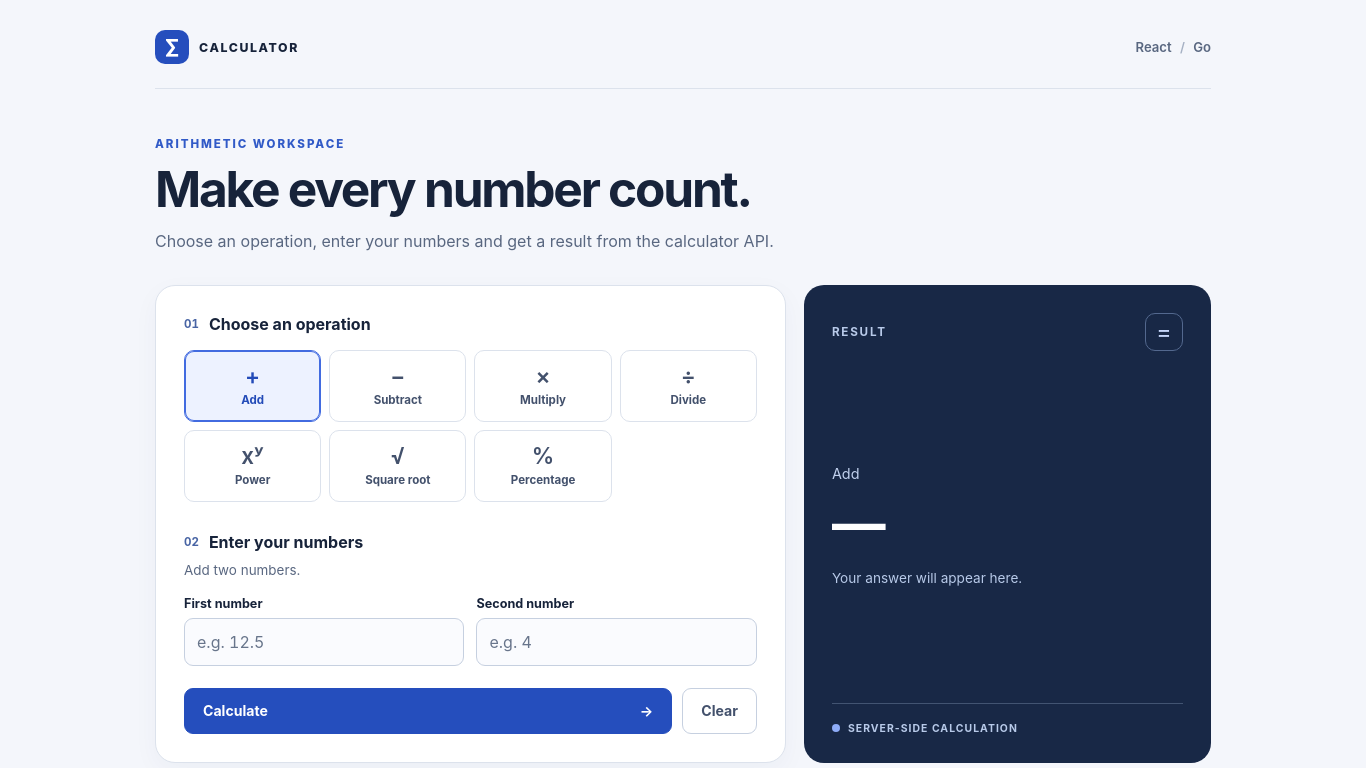
Test case: calculator interface › switches to a unary operation and clears previous feedback
The width and height of the screenshot is (1366, 768).
Click the button "√ Square root" at (398,466), box [329,430,466,502]
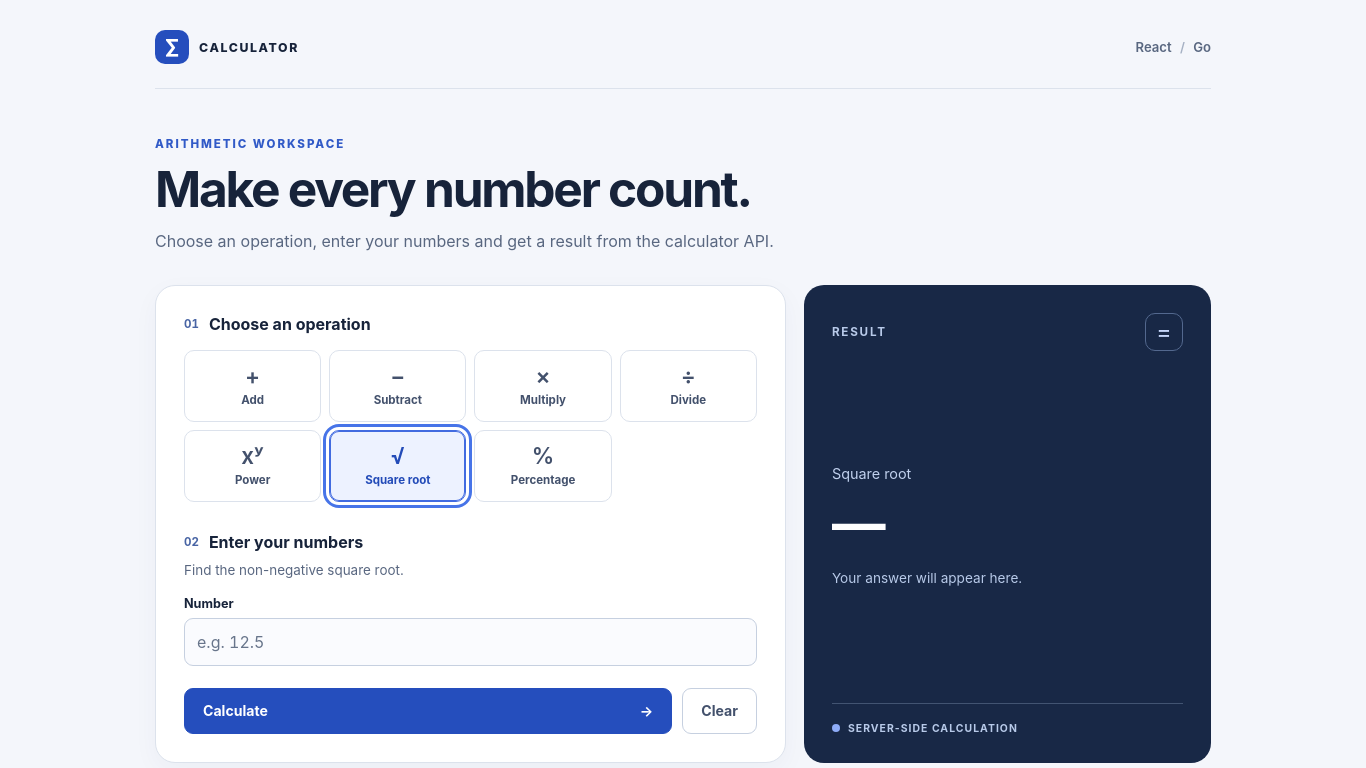
Expected: the label labelled "Second number" is gone
Type "81" into the field labelled "Number" at (470,642), box [184,618,757,666]
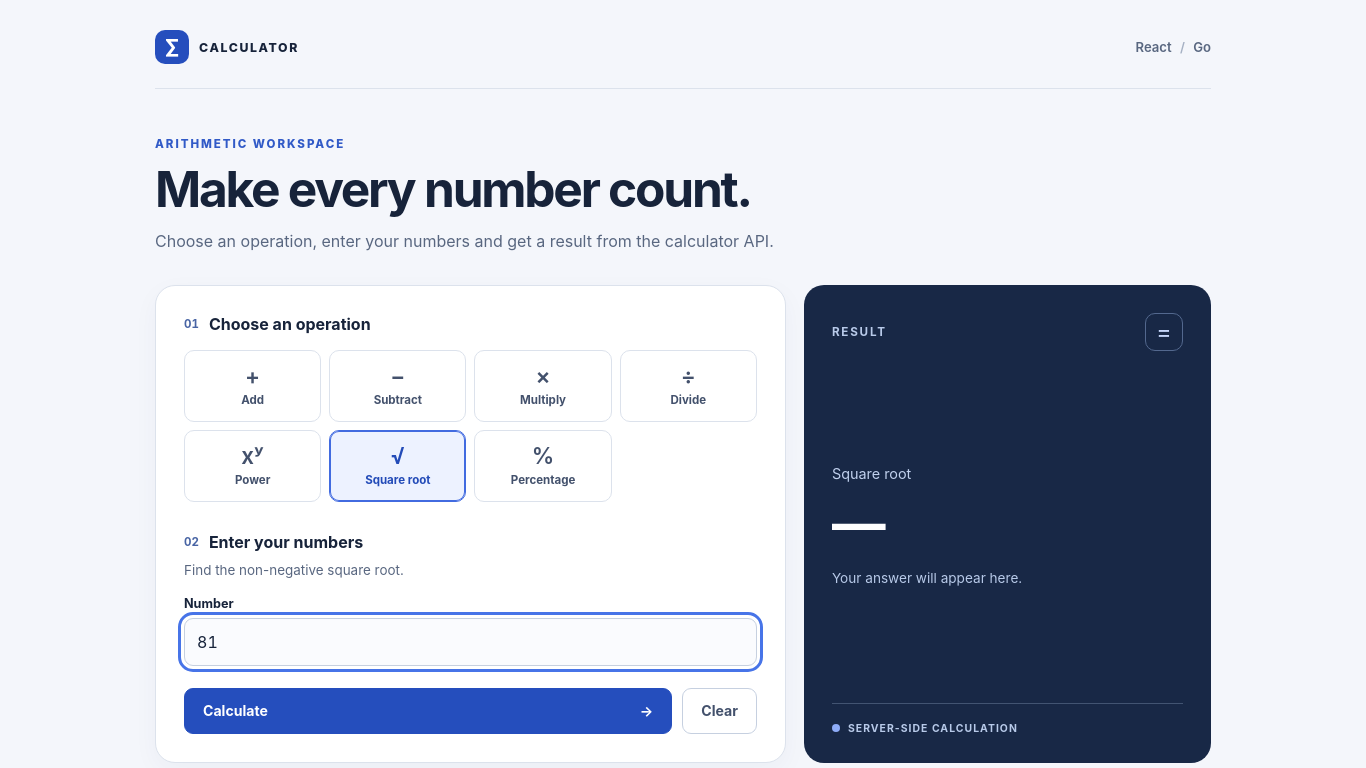
Click the button "Calculate →" at (235,711), box [184,688,672,734]
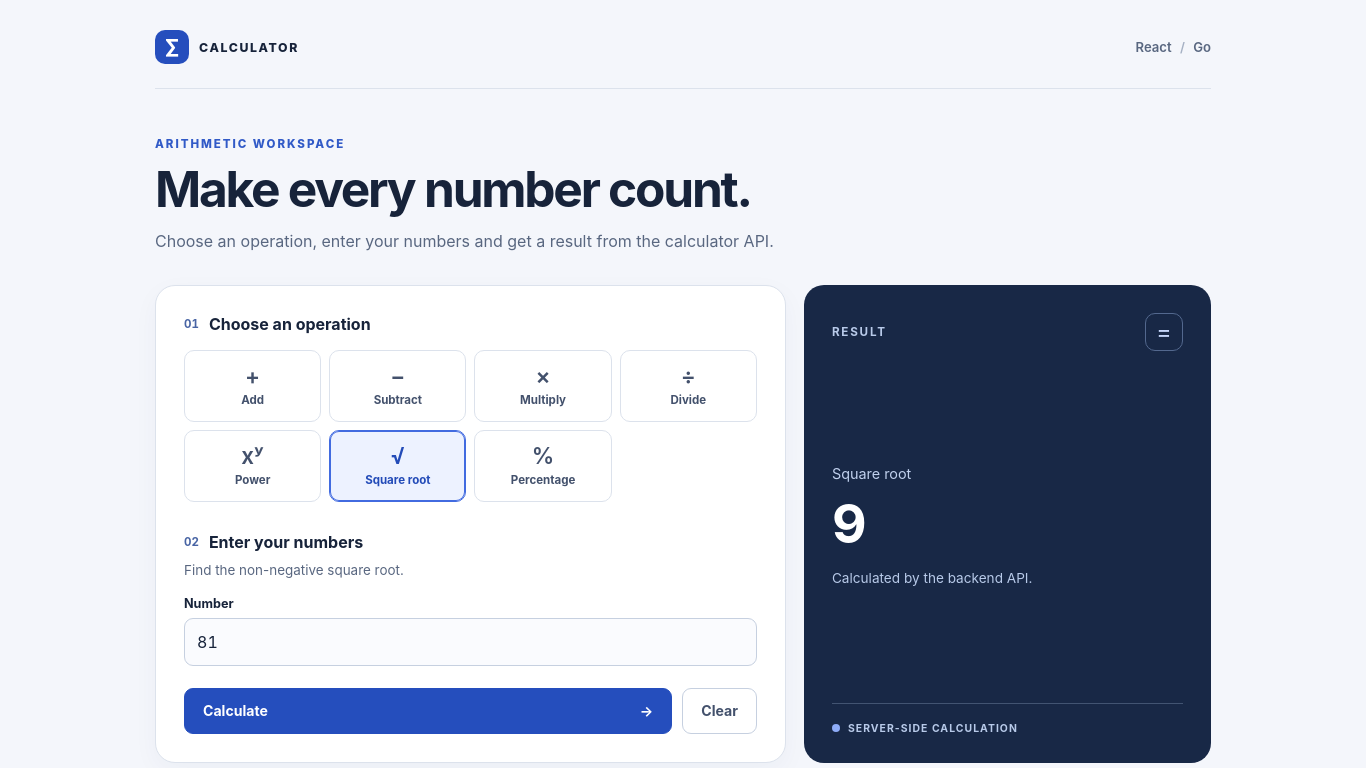
Expected: the text named "Result" reads "9", [832,491,864,556]
Click the button "Clear" at (720,711), box [682,688,757,734]
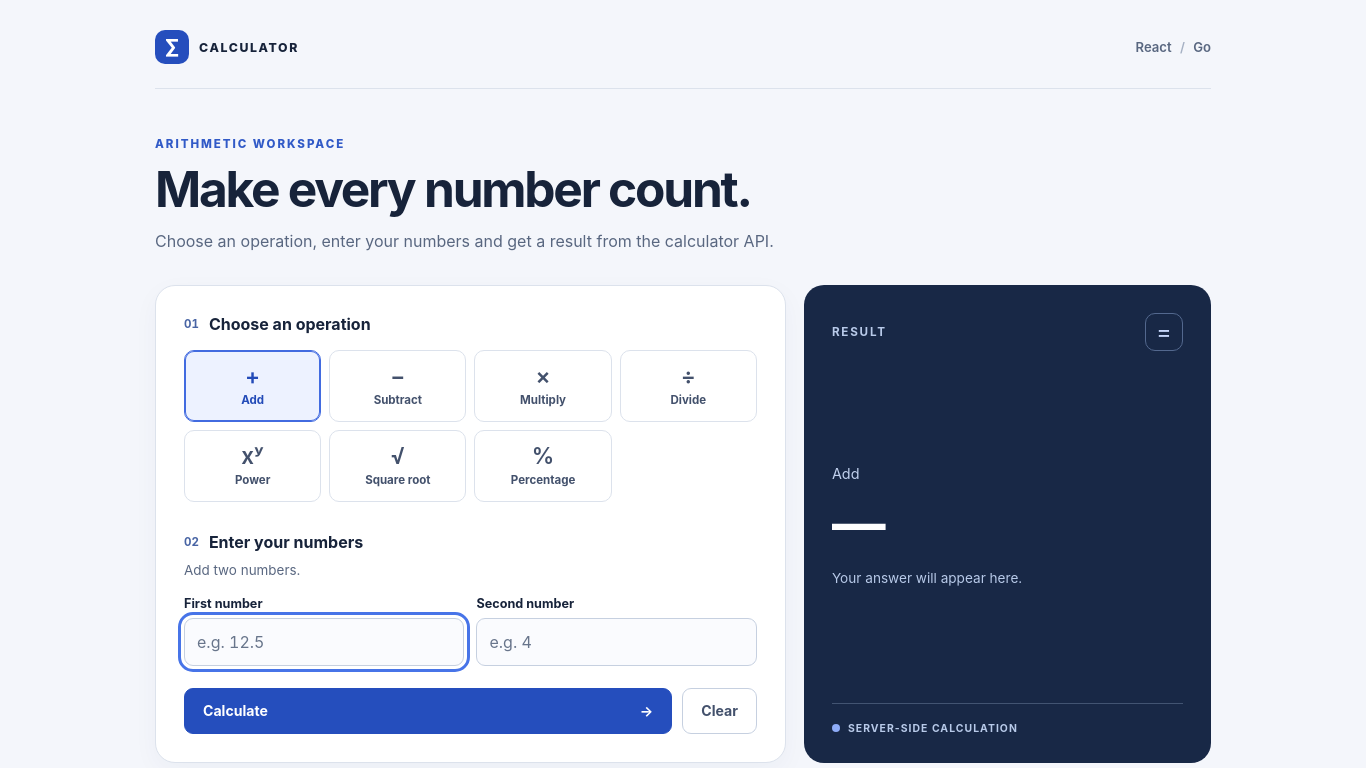
Expected: the text named "Result" reads "—", [832,491,883,556]
Expected: the field labelled "First number" is empty, [184,618,464,666]
